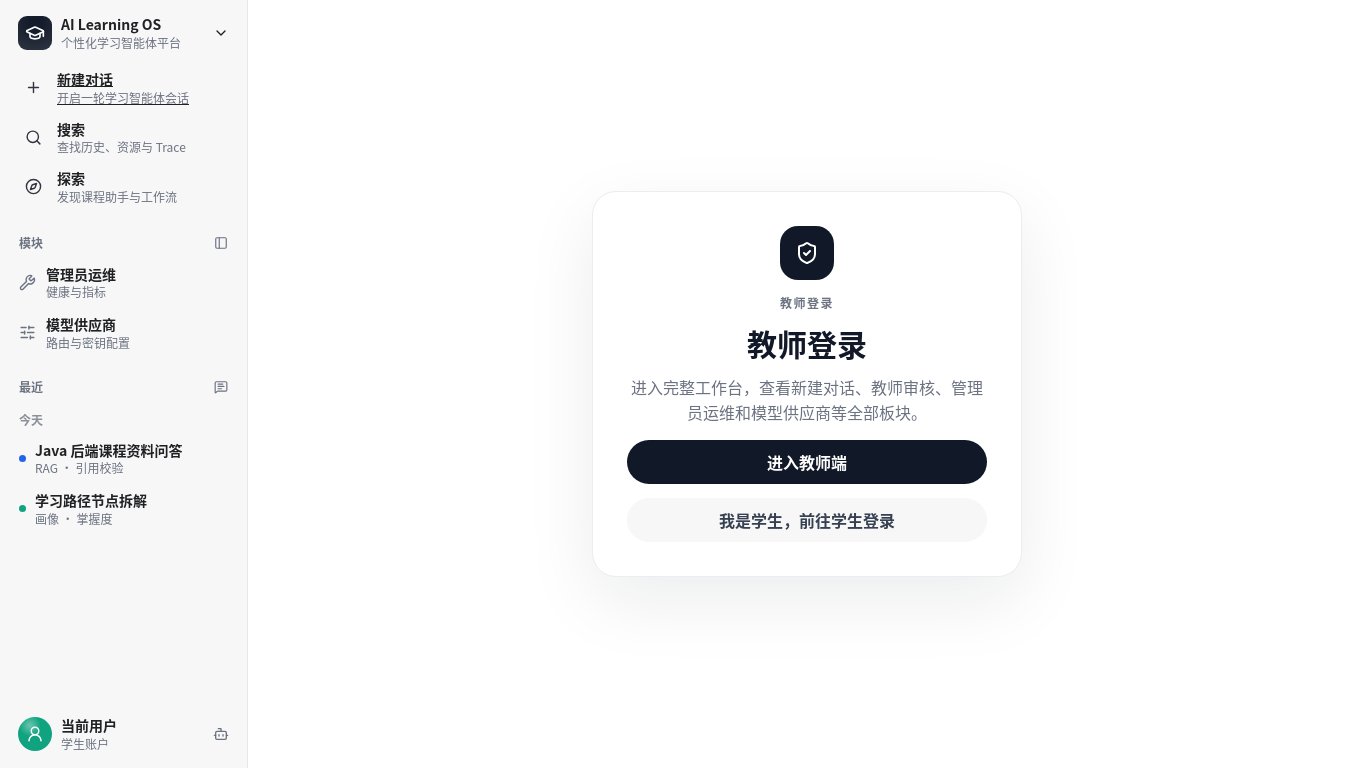
Test: AI Learning OS workbench › lets teachers log in and see every sidebar module
The width and height of the screenshot is (1366, 768).
expect the element with test id "teacher-login-page" shows "教师登录": met, box [780, 294, 834, 311]
Click the button with test id "teacher-login-submit" at (807, 462), box [627, 440, 987, 484]
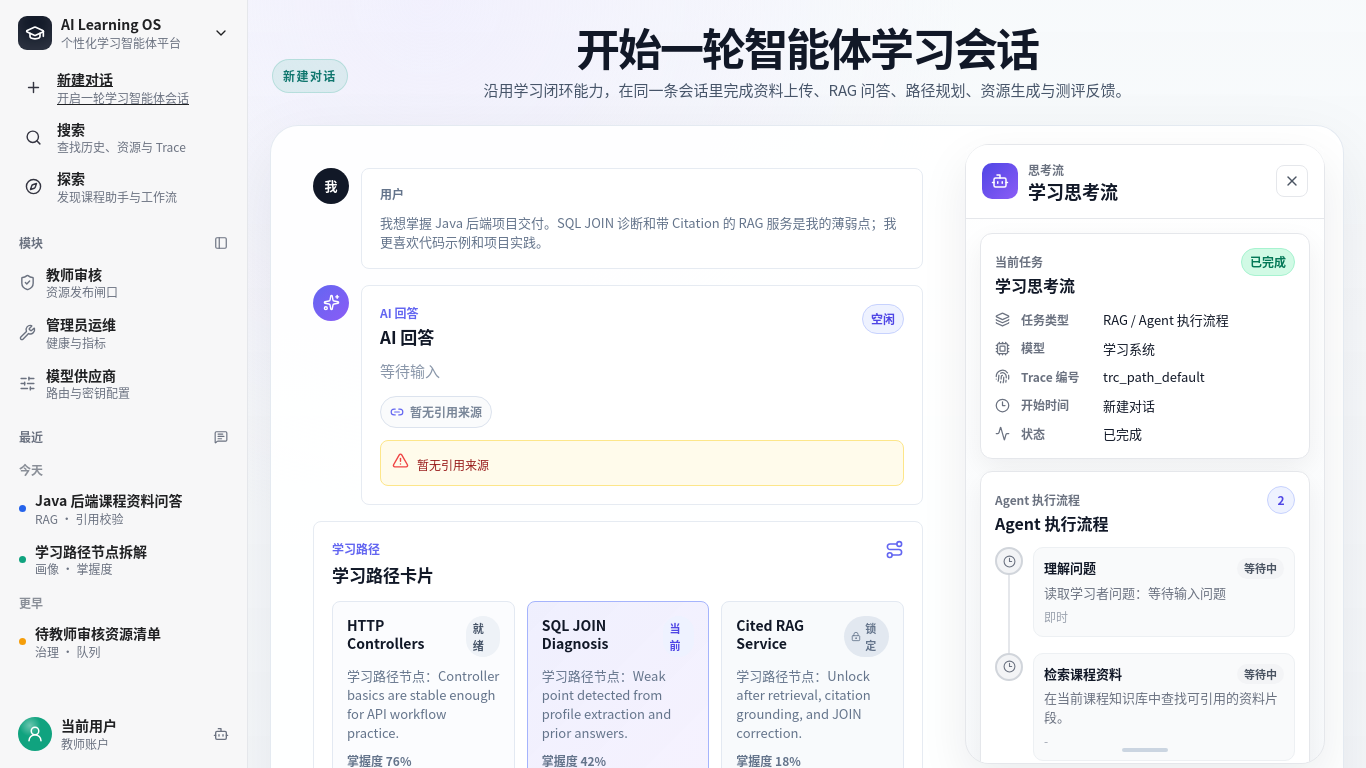
expect the text "开始一轮智能体学习会话" is shown: met, box [576, 26, 1038, 69]
expect the button with test id "account-menu-trigger" shows "教师账户": met, box [10, 710, 237, 758]
